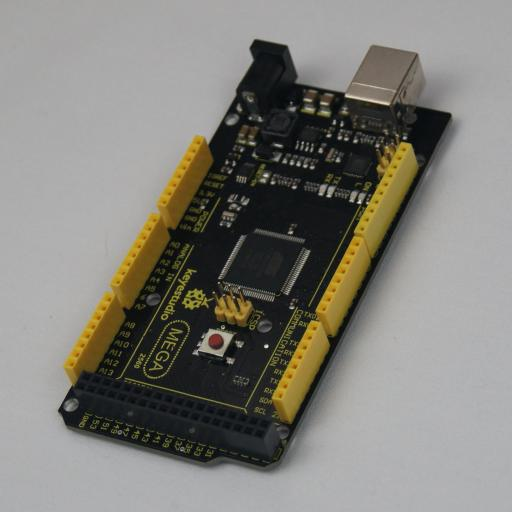Arduino Mega 2560 -Black and Yellow-: (58, 39, 452, 472)
